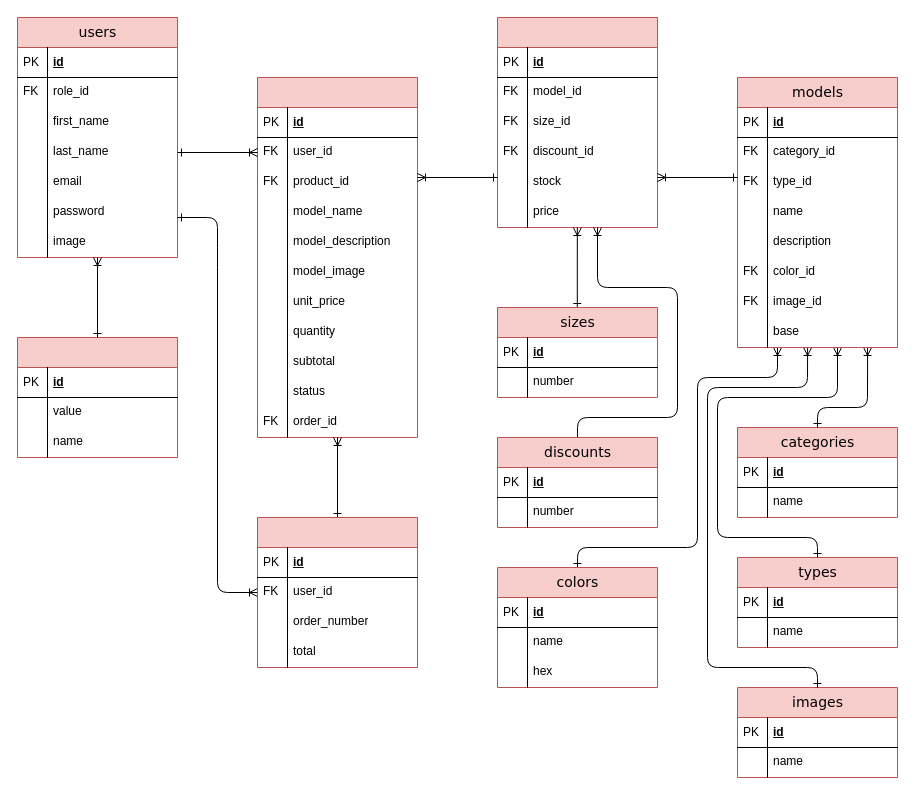
Image size: 915x798. Some labels were removed from this diagram. The shapes that lost their labels are listed below. From the top down, each one's box as (x1, y1, x2, y2) in pixels, then its label:
(496, 16, 658, 228): products
(256, 76, 418, 438): items
(16, 336, 178, 458): roles
(256, 516, 418, 668): orders
